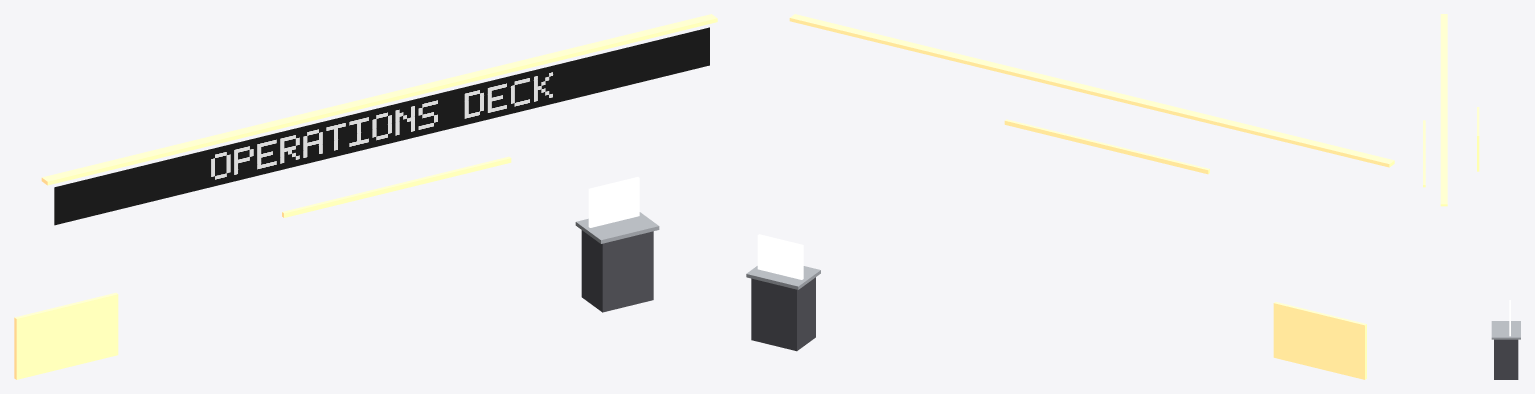
File: room-s33-infogurus-4.glb
3 views of the same model, side by side, from view 1: azimuth 30°, elevation 25°; view 2: azimuth 150°, elevation 25°; view 3: azimuth 270°, elevation 25° (orthographic). The views are drawn at different scales.
Visible parts, largest first — view 1: InfoGurus Operations Deck room; view 2: InfoGurus Operations Deck room; view 3: InfoGurus Operations Deck room.
Part boxes in pixels (<box>): InfoGurus Operations Deck room: <box>14,14,717,379</box>; InfoGurus Operations Deck room: <box>746,14,1394,379</box>; InfoGurus Operations Deck room: <box>1423,14,1520,379</box>.
Bounding box in the file's own units: 9.2 × 4.08 × 2.
5 materials, 1 textured.
